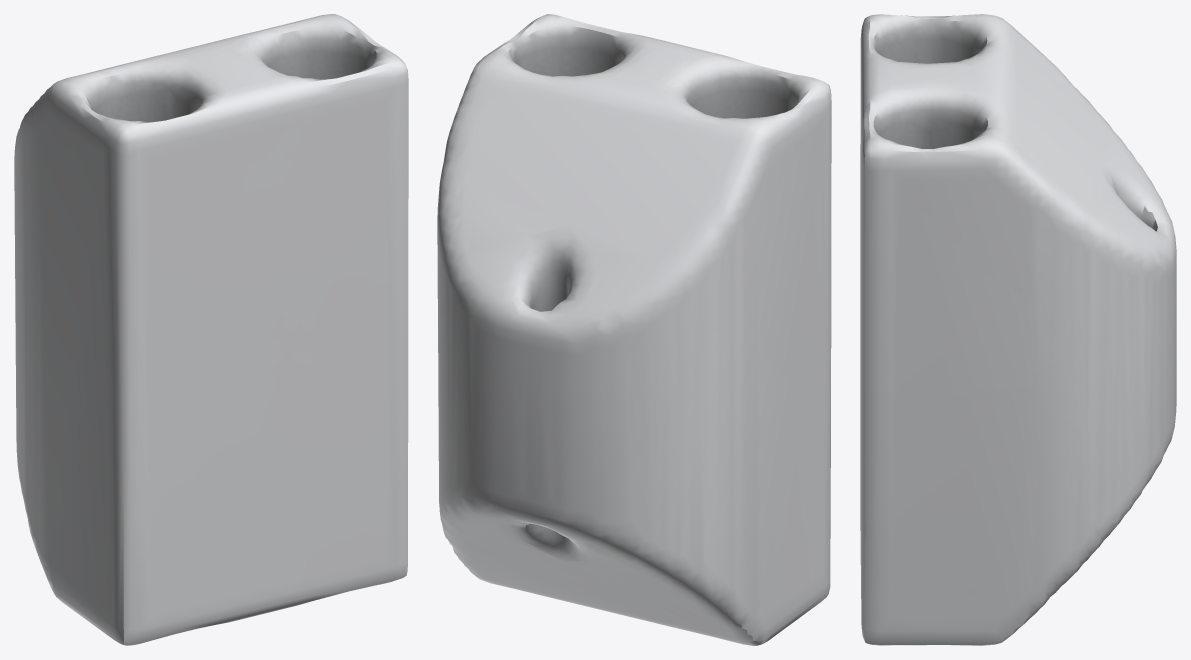
Rendered from left_finger4_lower.glb.
The picture shows the model from 3 angles, left to right: view 1: azimuth 30°, elevation 25°; view 2: azimuth 150°, elevation 25°; view 3: azimuth 270°, elevation 25°; orthographic projection. The views are drawn at different scales.
Visible parts, largest first — view 1: left_finger4_lower; view 2: left_finger4_lower; view 3: left_finger4_lower.
Part boxes in pixels (x1,y1,x2,y2): left_finger4_lower: [14, 14, 408, 645]; left_finger4_lower: [437, 14, 831, 645]; left_finger4_lower: [860, 14, 1176, 645].
Bounding box in the file's own units: 0.0109 × 0.0184 × 0.0104.
Materials: 1 (1 with a texture image).
